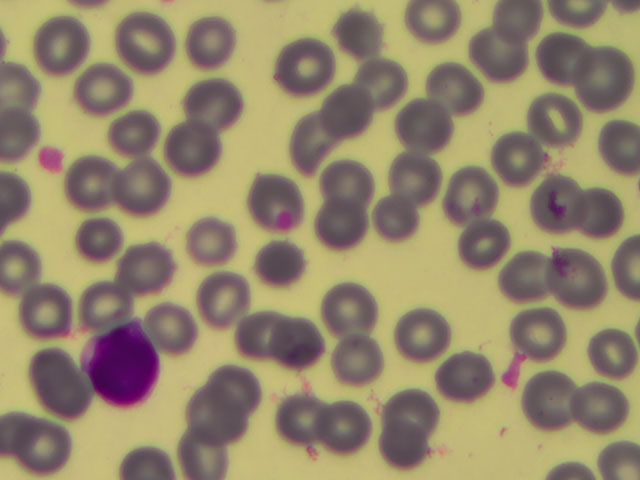Platelets: (33, 143, 72, 178), (498, 348, 529, 391)
RBC: (33, 13, 99, 75), (68, 55, 134, 117), (114, 9, 180, 71), (175, 10, 241, 72), (182, 67, 248, 129), (158, 110, 224, 172), (102, 104, 168, 166), (112, 151, 178, 213), (65, 153, 131, 215), (64, 209, 130, 271), (16, 283, 82, 345), (66, 267, 132, 329), (122, 236, 188, 298), (175, 214, 241, 276), (244, 170, 310, 232), (243, 229, 309, 291), (196, 263, 262, 325), (148, 294, 214, 356), (227, 297, 293, 359), (266, 313, 332, 375), (319, 280, 385, 342), (318, 329, 384, 391), (311, 391, 377, 453), (280, 389, 346, 451), (212, 355, 278, 417), (182, 383, 248, 445), (175, 418, 241, 480), (26, 370, 92, 432), (19, 414, 85, 476), (363, 417, 429, 479), (382, 378, 448, 440), (428, 345, 494, 407), (396, 304, 462, 366), (362, 193, 428, 255), (380, 141, 446, 203), (314, 146, 380, 208), (312, 196, 378, 258), (277, 111, 343, 173), (308, 80, 374, 142), (346, 52, 412, 114), (326, 9, 392, 71), (277, 37, 343, 99), (429, 55, 495, 117), (398, 97, 464, 159), (463, 22, 529, 84), (531, 28, 597, 90), (574, 49, 640, 111), (528, 83, 594, 145), (491, 124, 557, 186), (444, 163, 510, 225), (454, 223, 520, 285), (496, 253, 562, 315), (551, 254, 617, 316), (507, 301, 573, 363), (513, 373, 579, 435), (569, 384, 635, 446), (574, 324, 640, 386), (574, 179, 640, 241), (518, 165, 584, 227), (400, 1, 466, 62)
WBC: (82, 322, 167, 406)
